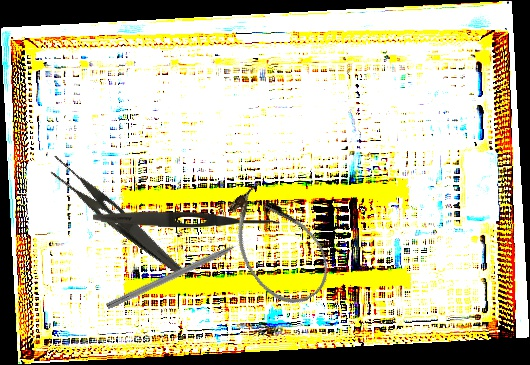Cannula: (212, 173, 342, 318)
Dressing Forceps: (40, 152, 197, 278), (92, 209, 282, 230)
Hook Surgical: (105, 235, 254, 312)
